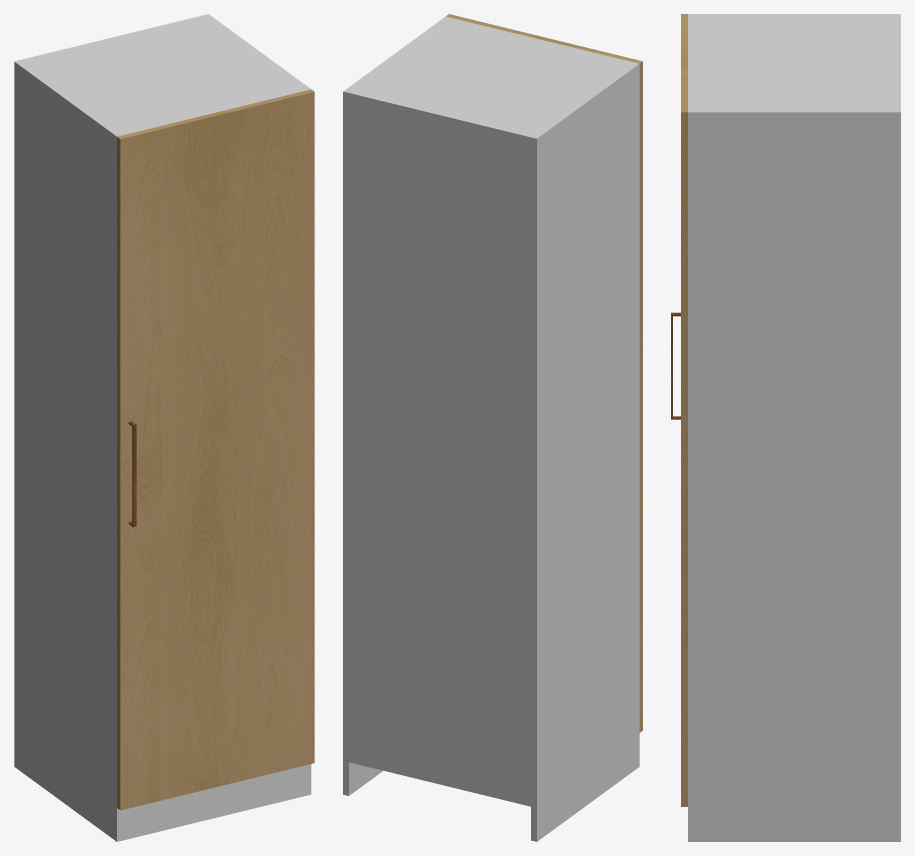
File: wardrobe-600-r.glb
The picture shows the model from 3 angles, left to right: view 1: azimuth 30°, elevation 25°; view 2: azimuth 150°, elevation 25°; view 3: azimuth 270°, elevation 25°; orthographic projection. The views are drawn at different scales.
Visible parts, largest first — view 1: Mesh_5_group, Mesh_0_group, Mesh_1_group; view 2: Mesh_0_group, Mesh_1_group, Mesh_5_group; view 3: Mesh_0_group, Mesh_1_group, Mesh_5_group.
Boxes of the visible parts, <box> form: Mesh_5_group: <box>117,89,314,810</box>; Mesh_0_group: <box>14,14,310,807</box>; Mesh_1_group: <box>14,733,311,841</box>; Mesh_0_group: <box>343,16,639,807</box>; Mesh_1_group: <box>343,733,639,841</box>; Mesh_5_group: <box>446,14,642,732</box>; Mesh_0_group: <box>688,14,900,806</box>; Mesh_1_group: <box>688,807,900,841</box>; Mesh_5_group: <box>681,14,687,806</box>.
Size of the model in its own units: 0.6 by 2.08 by 0.5934.
3 materials, 2 textured.
